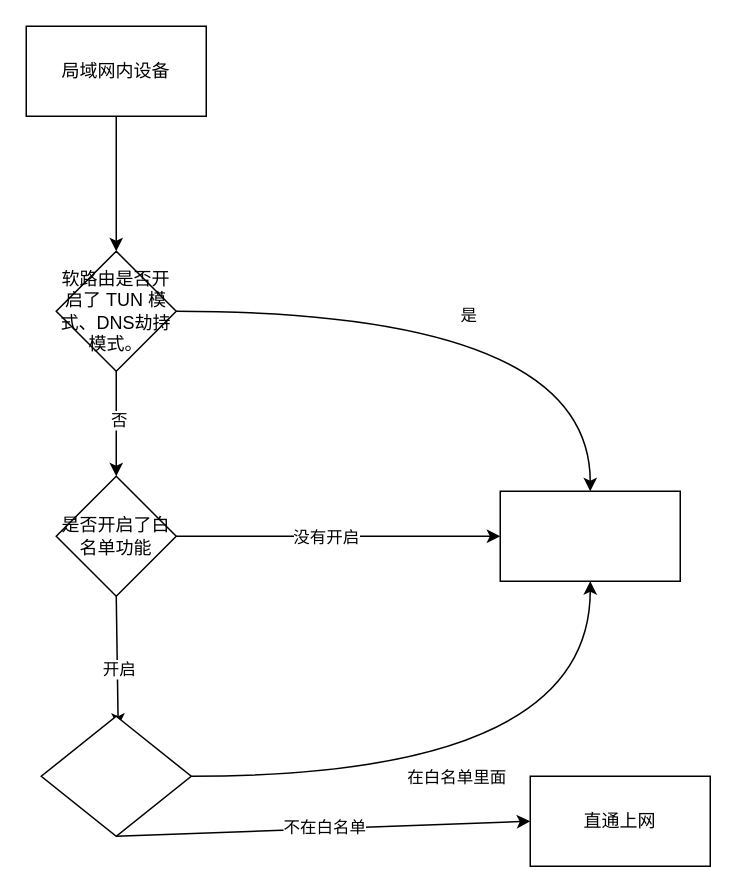
Image size: 737x893. Some labels were removed from this diagram. The centre of each missing label's shape, as x and y in pixels:
"设备是否在白名单里面" goes at point (115, 775).
"走 Mihomo 流程（TProxy/TUN 接管）" goes at point (589, 535).
